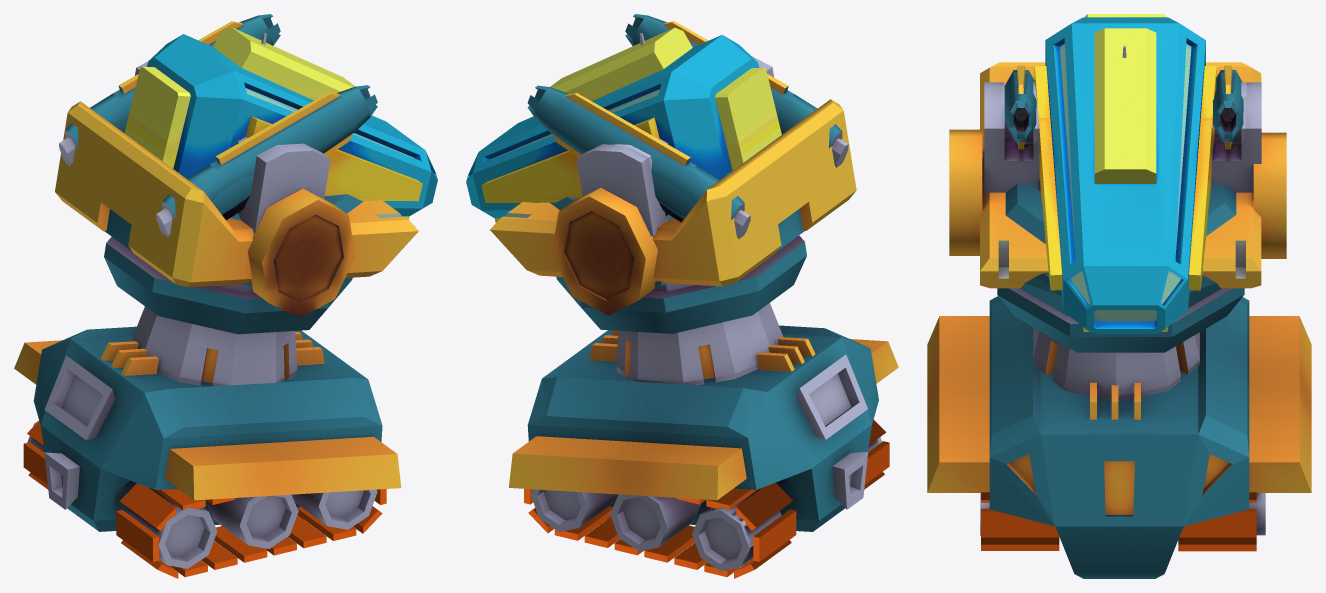
Rendered from Player_moving_upgrade2.obj.
3 renders of one model, left to right at view 1: azimuth 30°, elevation 25°; view 2: azimuth 150°, elevation 25°; view 3: azimuth 270°, elevation 25°, orthographic. The views are drawn at different scales.
Parts seen in each view (by area): view 1: Object015, Object014, Box009, Box017, Box016; view 2: Object015, Object014, Box009, Box016, Box017; view 3: Object015, Object014, Box016, Box017, Box009.
Boxes of the visible parts, x1,y1,x2,y2 form: Object015: (14, 27, 437, 531); Object014: (59, 14, 377, 237); Box009: (27, 420, 377, 568); Box017: (116, 483, 386, 578); Box016: (23, 421, 48, 489); Object015: (466, 27, 898, 531); Object014: (527, 14, 848, 239); Box009: (530, 437, 882, 571); Box016: (524, 482, 796, 578); Box017: (864, 419, 889, 489); Object015: (927, 14, 1311, 578); Object014: (1004, 65, 1243, 149); Box016: (1178, 492, 1256, 551); Box017: (981, 492, 1059, 550); Box009: (980, 493, 1265, 535).
Size of the model in its own units: 70.38 by 88.9 by 59.78.
Materials: 5 (3 with a texture image).
